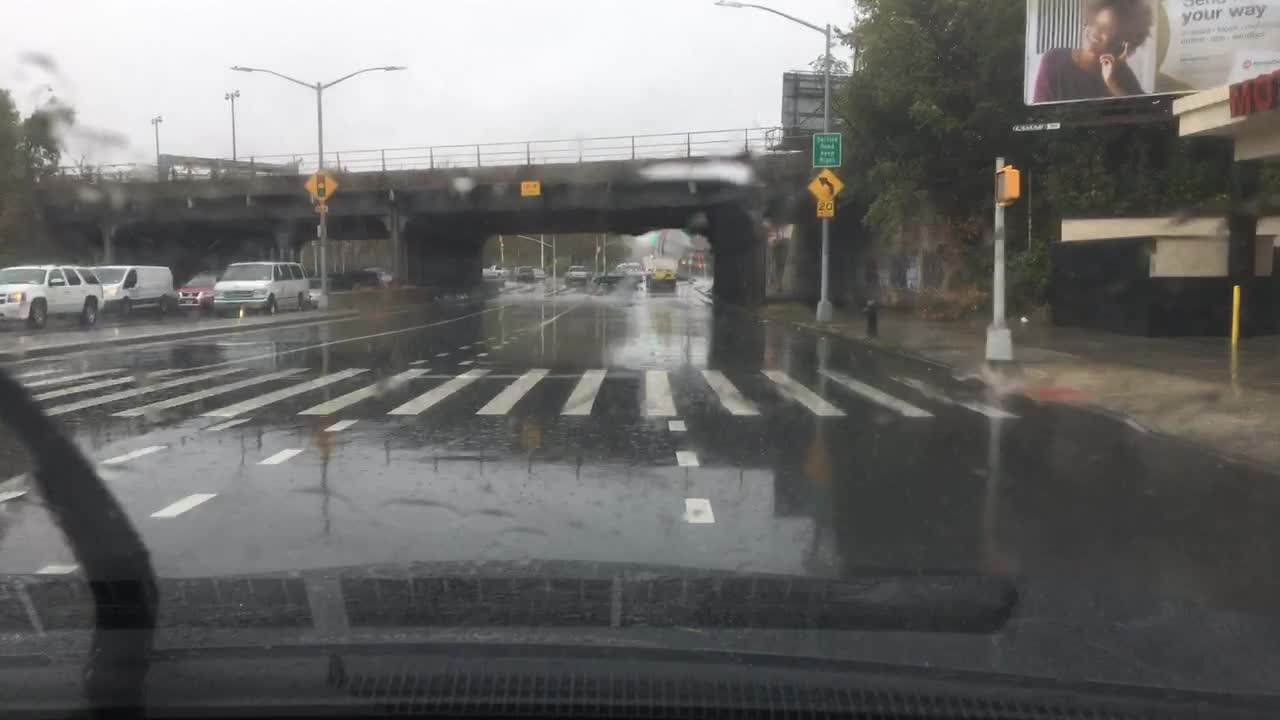car: (0, 264, 105, 329), (211, 257, 312, 315), (86, 264, 176, 318), (174, 269, 217, 307), (644, 257, 675, 288), (359, 265, 391, 288), (591, 269, 628, 288), (616, 260, 641, 284), (482, 263, 512, 280), (562, 263, 588, 282), (307, 278, 323, 306), (673, 257, 692, 279), (513, 263, 535, 280), (533, 267, 545, 280)
traffic light: (992, 166, 1020, 205)
traffic sign: (302, 169, 338, 202), (807, 167, 842, 200), (811, 130, 841, 167), (815, 197, 833, 217), (451, 175, 470, 189), (519, 181, 539, 194), (765, 227, 776, 246), (311, 202, 329, 213), (315, 225, 326, 239), (648, 229, 657, 246), (783, 224, 791, 238)
